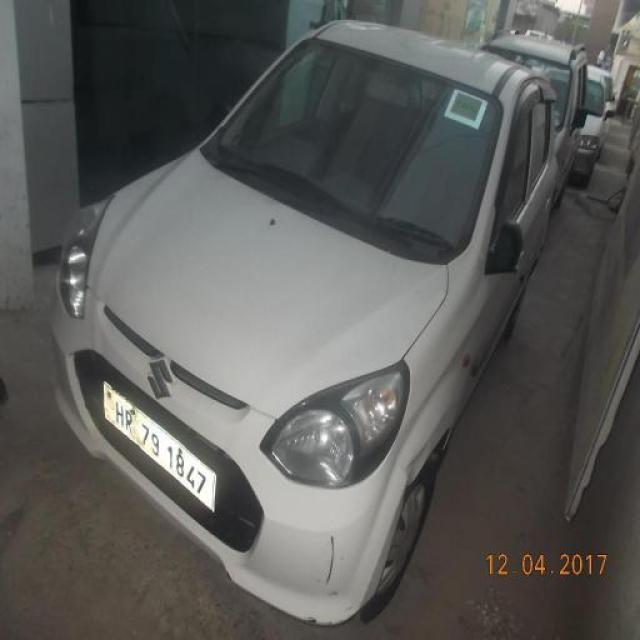scratch: (320, 528, 341, 602)
